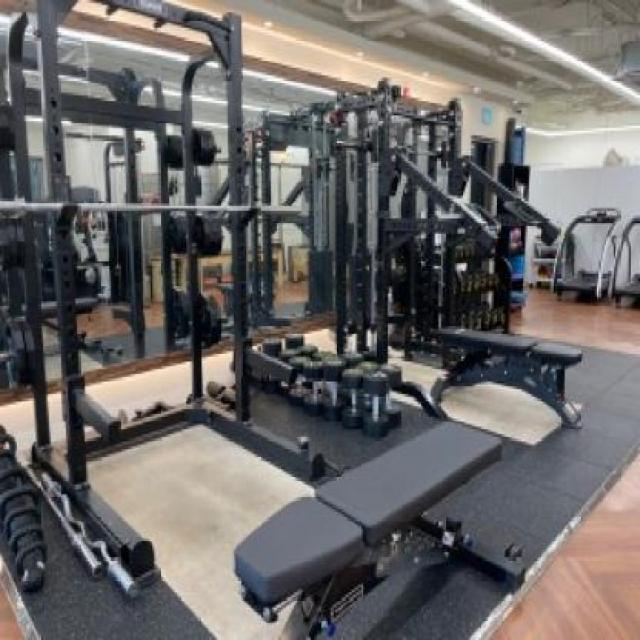smith machine: (4, 0, 264, 595), (331, 77, 463, 372)
